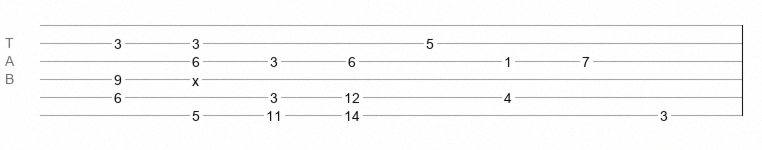1: (504, 54, 512, 64)
11: (266, 108, 282, 118)
12: (344, 90, 360, 100)
14: (344, 108, 360, 118)
3: (114, 36, 122, 46), (192, 36, 200, 46), (270, 54, 278, 64), (270, 90, 278, 100), (660, 108, 668, 118)
4: (504, 90, 512, 100)
5: (192, 108, 200, 118), (426, 36, 434, 46)
6: (114, 90, 122, 100), (192, 54, 200, 64), (348, 54, 356, 64)
7: (582, 54, 590, 64)
9: (114, 72, 122, 82)
x: (192, 73, 199, 81)
